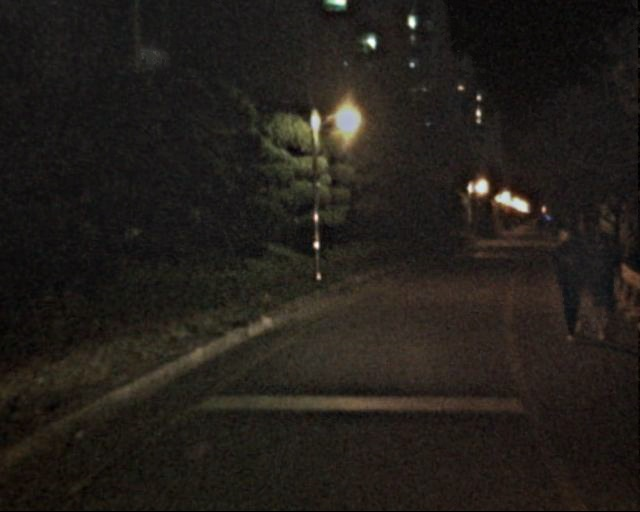person: (545, 226, 594, 345), (576, 227, 624, 344)
